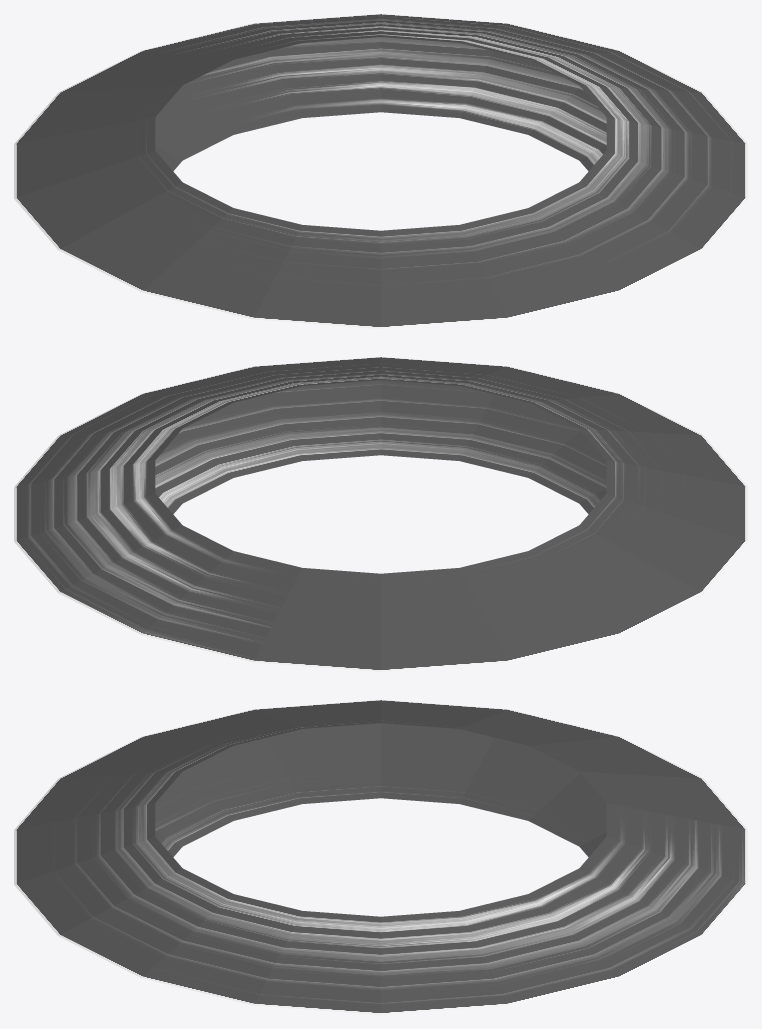
Rendered from ef_mesh_daoguang.FBX.
3 views of the same model, one above another, from view 1: azimuth 30°, elevation 25°; view 2: azimuth 150°, elevation 25°; view 3: azimuth 270°, elevation 25° (orthographic).
Parts seen in each view (by area): view 1: Cylinder001; view 2: Cylinder001; view 3: Cylinder001.
Boxes of the visible parts, x1,y1,x2,y2 form: Cylinder001: [14, 14, 747, 328]; Cylinder001: [14, 357, 747, 671]; Cylinder001: [14, 700, 747, 1014].
Size of the model in its own units: 131 by 14.6 by 129.
